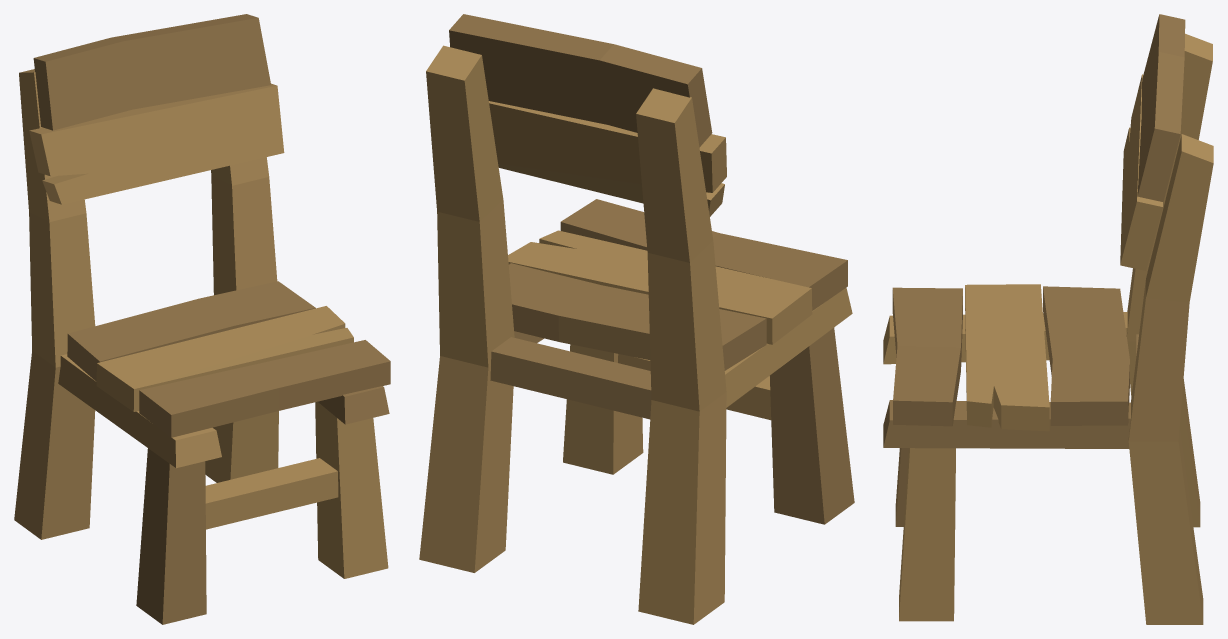
File: Wooden_Chair_2.gltf
3 renders of one model, left to right at view 1: azimuth 30°, elevation 25°; view 2: azimuth 150°, elevation 25°; view 3: azimuth 270°, elevation 25°, orthographic. The views are drawn at different scales.
Visible parts, largest first — view 1: Wooden_Chair_22; view 2: Wooden_Chair_22; view 3: Wooden_Chair_22.
Boxes of the visible parts, x1,y1,x2,y2 form: Wooden_Chair_22: (14, 14, 390, 624); Wooden_Chair_22: (419, 14, 854, 624); Wooden_Chair_22: (883, 14, 1213, 624).
Size of the model in its own units: 0.1322 by 0.2465 by 0.1487.
1 material, 1 textured.
